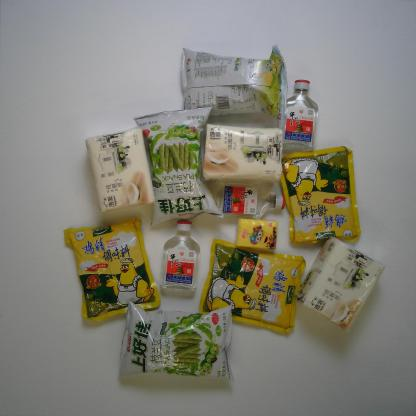Alcohol: (212, 178, 286, 221), (277, 79, 319, 151), (160, 220, 200, 292)
Puffed Food: (133, 106, 224, 227), (118, 300, 235, 382), (180, 43, 287, 124)
Seasoner: (63, 217, 161, 324), (199, 238, 307, 335), (280, 145, 361, 246)
Tissue: (294, 235, 386, 332), (85, 125, 156, 212), (202, 122, 284, 184), (236, 218, 278, 250)
